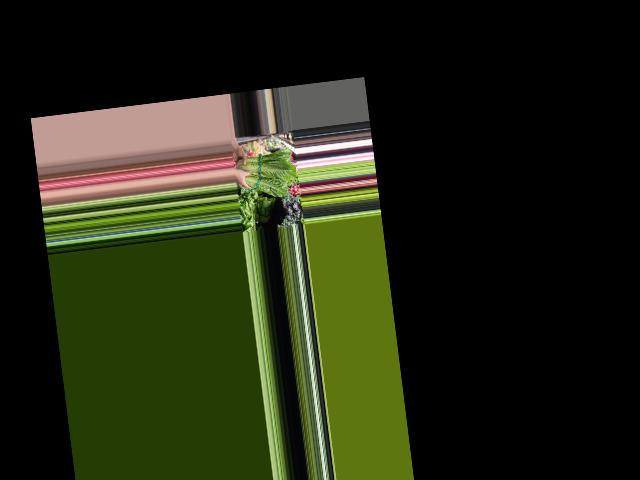lettuce: (231, 148, 296, 202)
